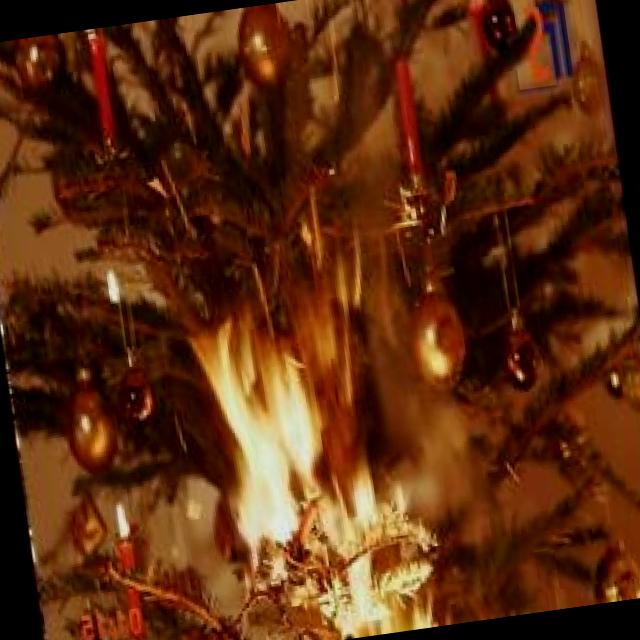fire: (188, 243, 398, 566)
